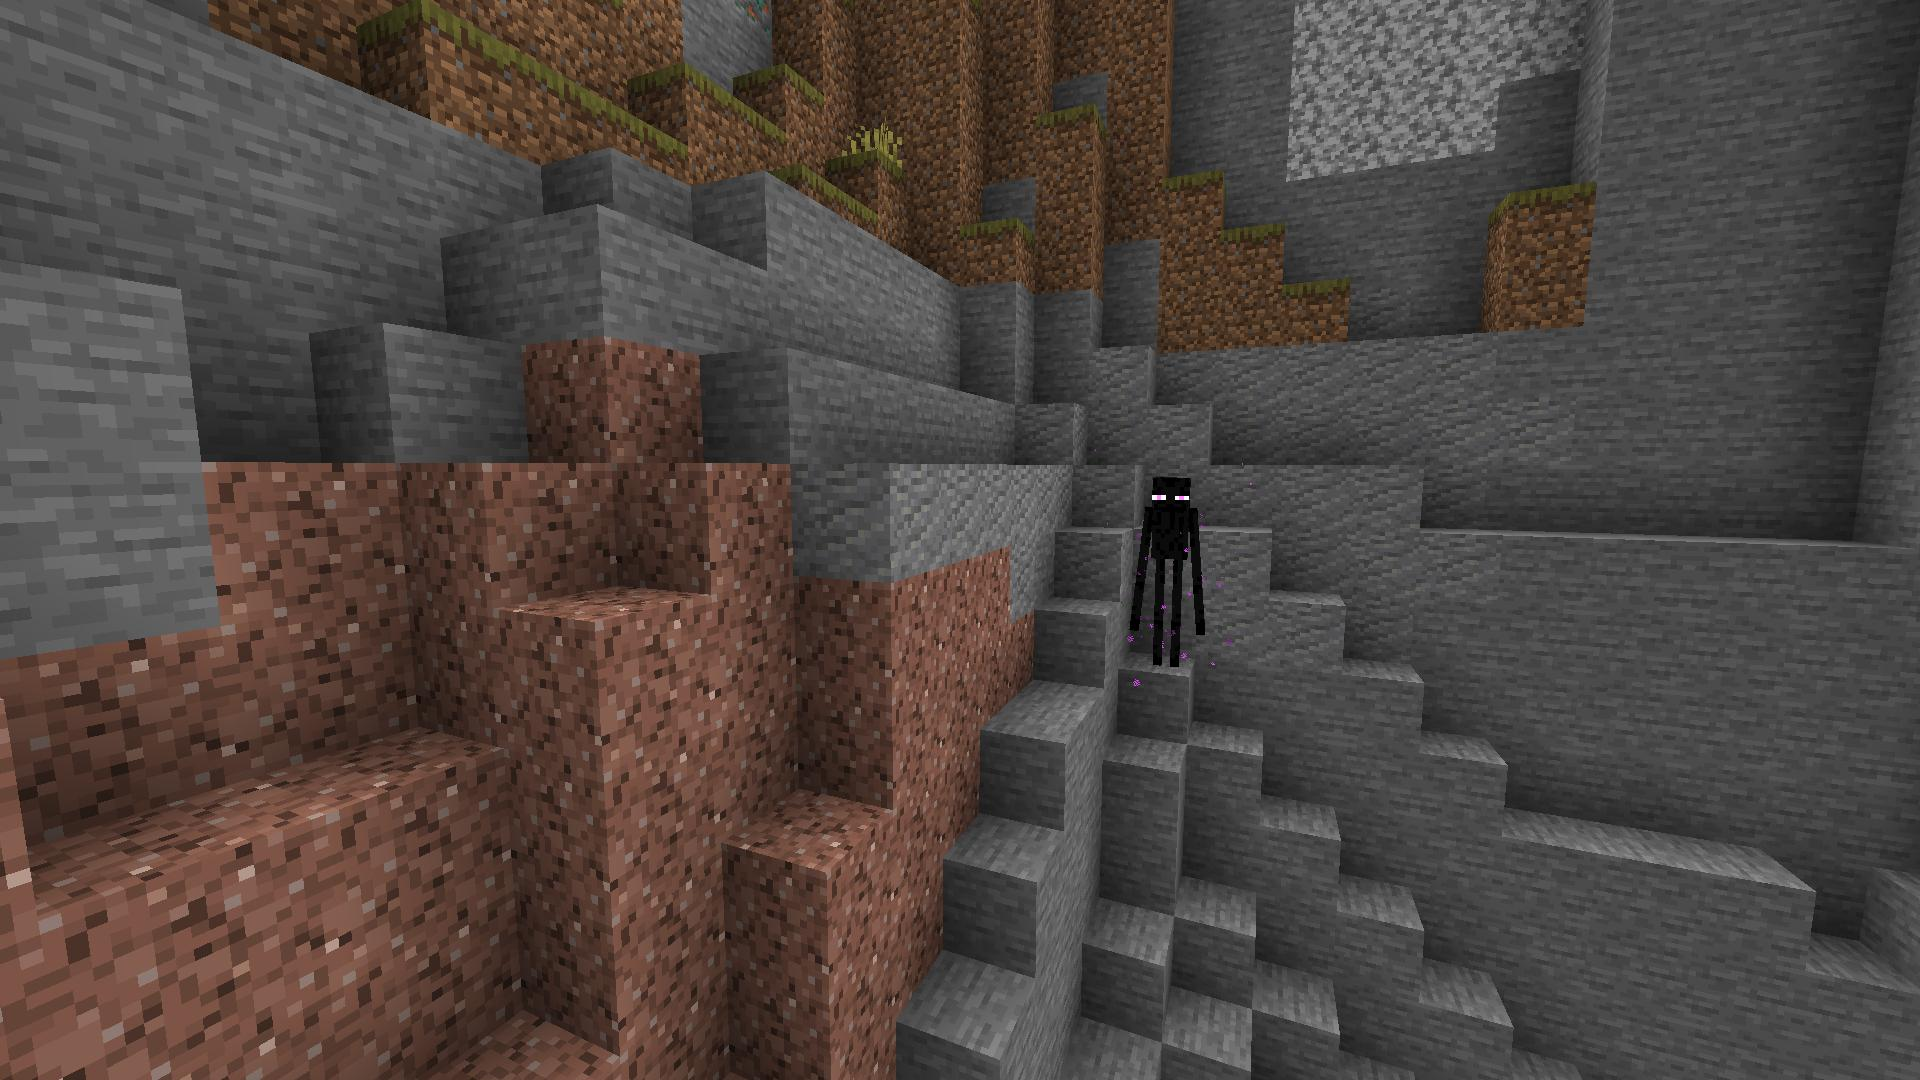enderman: (1133, 468, 1222, 667)
